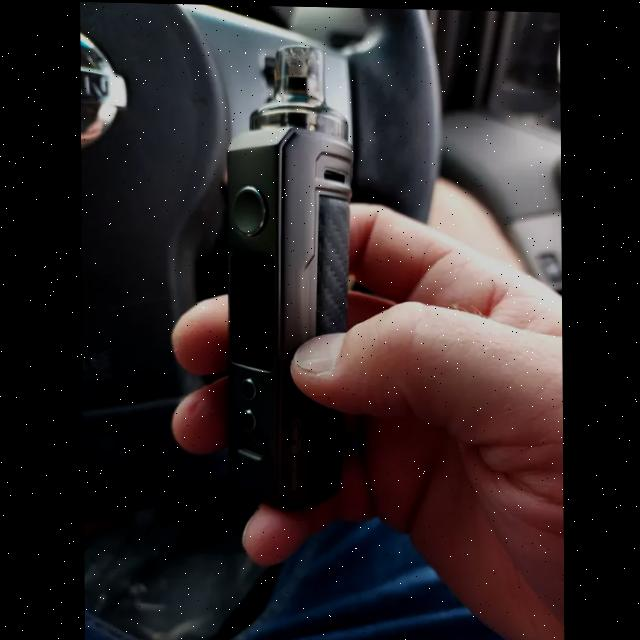vape: (226, 44, 355, 512)
